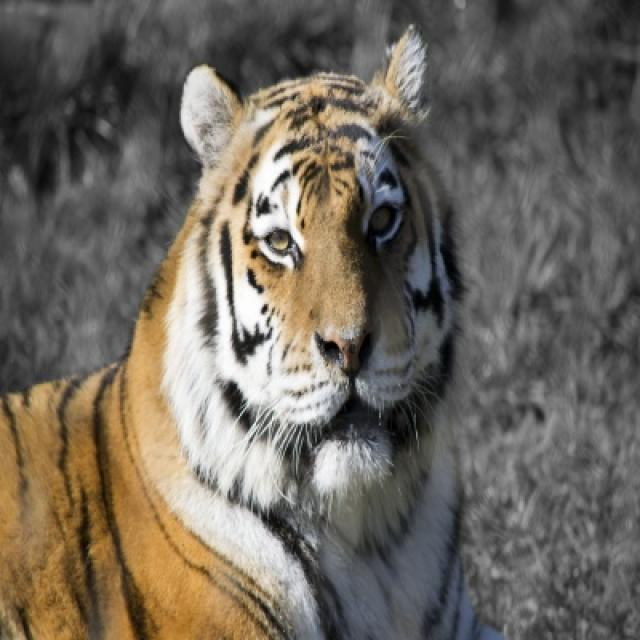Tiger: (1, 27, 472, 638)
